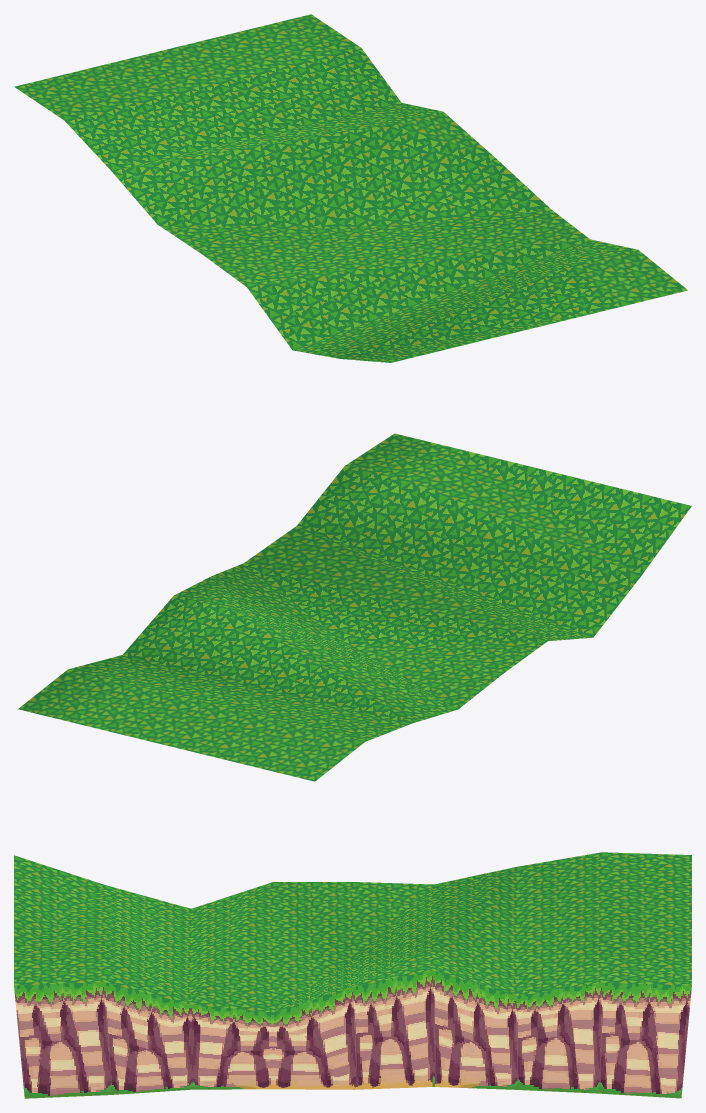
Rendered from c_grd_e2_1.001.glb.
3 views of the same model, one above another, from view 1: azimuth 30°, elevation 25°; view 2: azimuth 150°, elevation 25°; view 3: azimuth 270°, elevation 25° (orthographic). The views are drawn at different scales.
Parts seen in each view (by area): view 1: c_grd_e2_1.001; view 2: c_grd_e2_1.001; view 3: c_grd_e2_1.001.
Part boxes in pixels (left/top/right/bottom): c_grd_e2_1.001: left=14, top=14, right=687, bottom=362; c_grd_e2_1.001: left=18, top=433, right=691, bottom=781; c_grd_e2_1.001: left=14, top=852, right=691, bottom=1098.
Bounding box in the file's own units: 16.25 × 6.59 × 34.05.
Materials: 4 (4 with a texture image).
